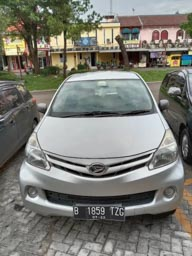plat: (74, 204, 125, 215)
